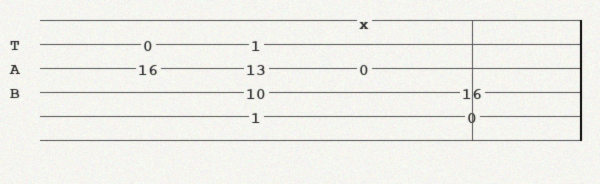0: (143, 37, 157, 51), (359, 61, 373, 75), (467, 109, 481, 123)
1: (251, 37, 265, 51), (251, 109, 265, 123)
10: (246, 85, 270, 99)
13: (246, 61, 270, 75)
16: (138, 61, 162, 75), (462, 85, 486, 99)
x: (359, 15, 373, 26)
